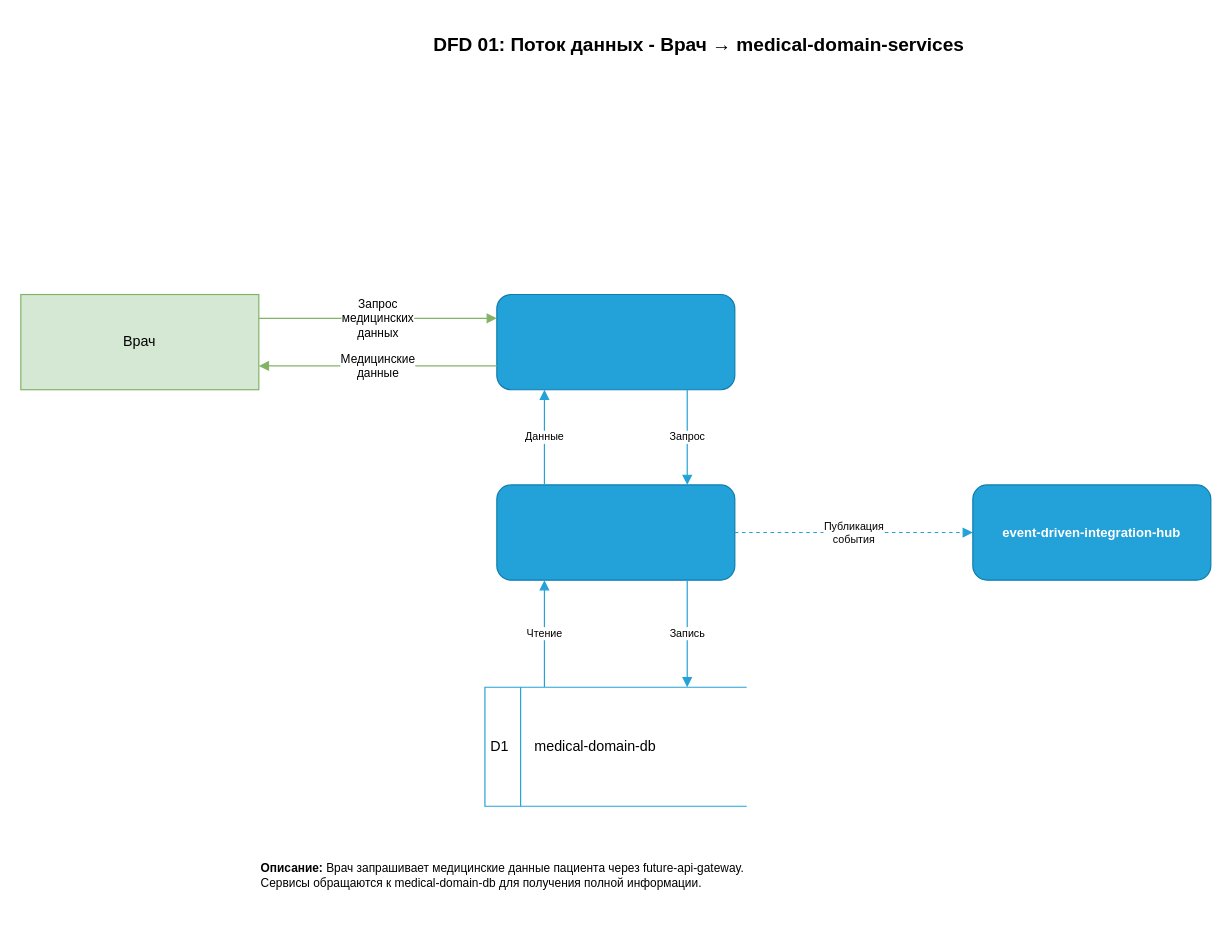
This 1232x945 diagram has some shape labels left out. The centre of each missing label's shape, as x and y in pixels:
"1.0 future-api-gateway" belongs at (x=615, y=341).
"2.0 medical-domain-services" belongs at (x=615, y=532).
